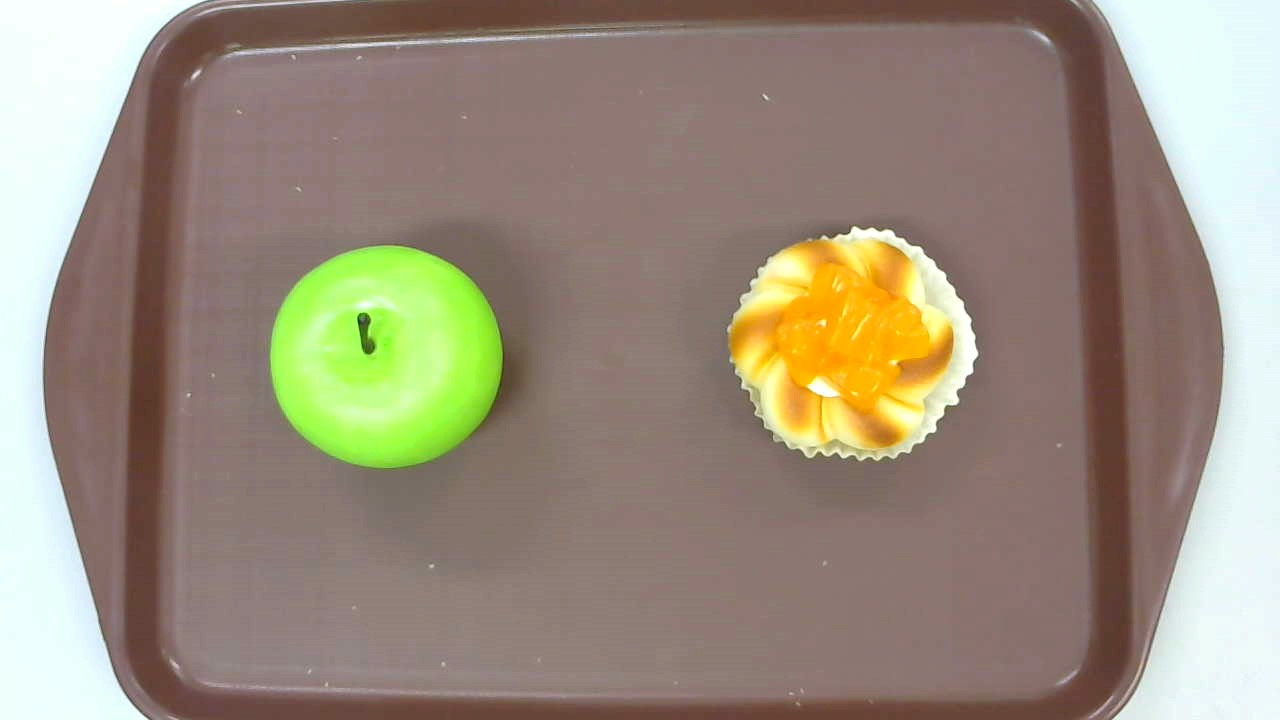green apple: (269, 245, 503, 471)
mango tart: (726, 224, 978, 464)
